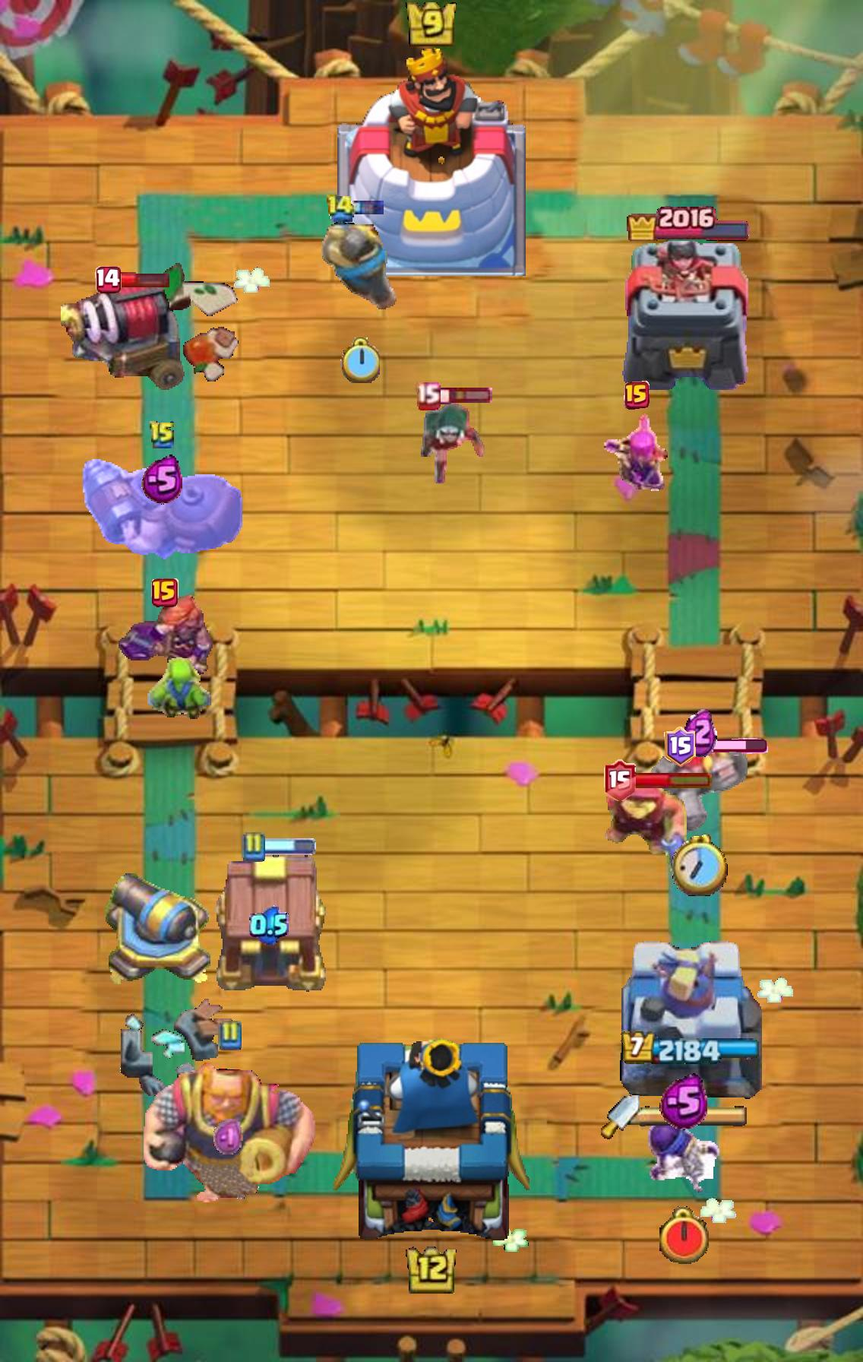cannon: (105, 865, 214, 993)
elixir: (659, 1074, 708, 1131), (141, 455, 184, 505), (683, 705, 718, 757), (249, 905, 289, 945), (213, 1117, 246, 1157)
